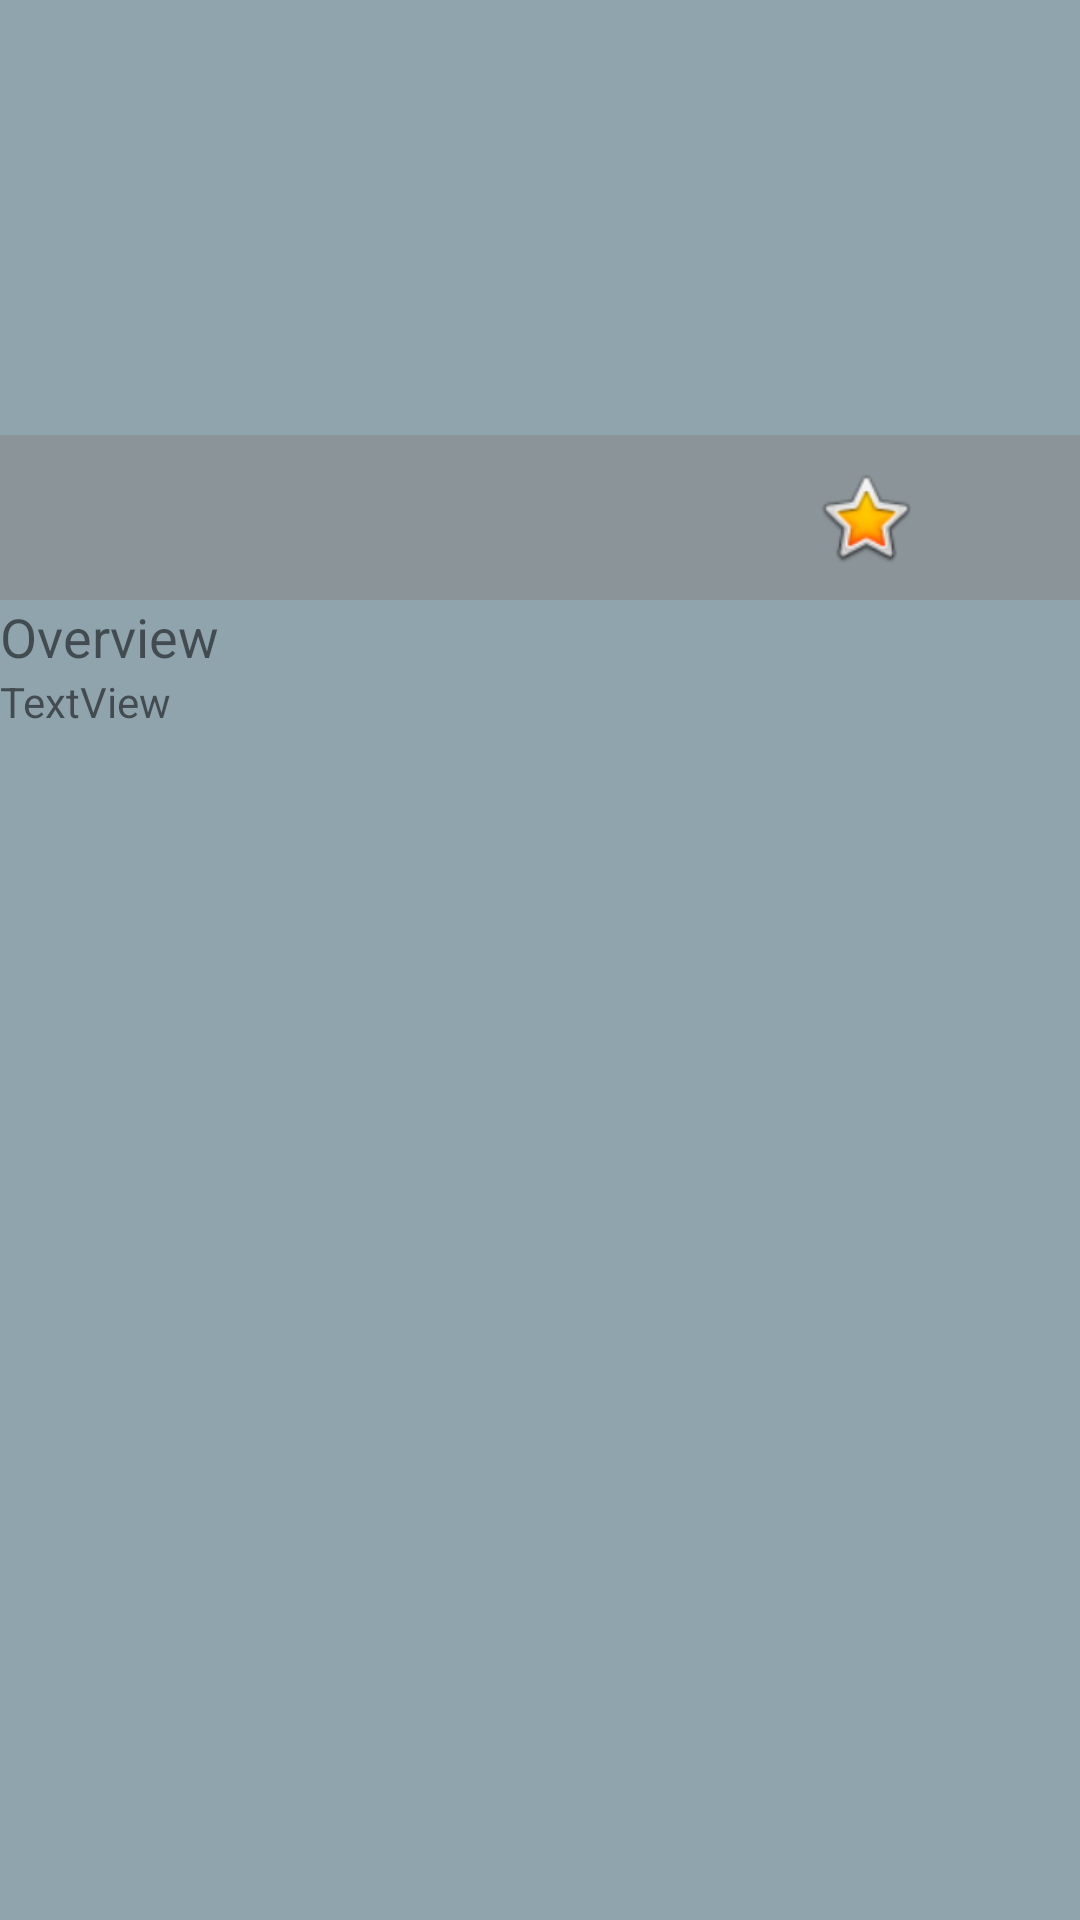

Where to tap for icons on this 1080px×1920px app screen, as point (x, y):
star on: point (866, 519)
